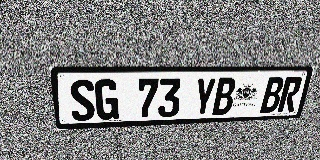3: (158, 78, 181, 117)
7: (136, 78, 159, 118)
B: (212, 77, 237, 115), (260, 77, 285, 113)
G: (94, 79, 119, 120)
R: (277, 77, 303, 112)
S: (69, 79, 96, 121)
Y: (192, 78, 217, 116)
